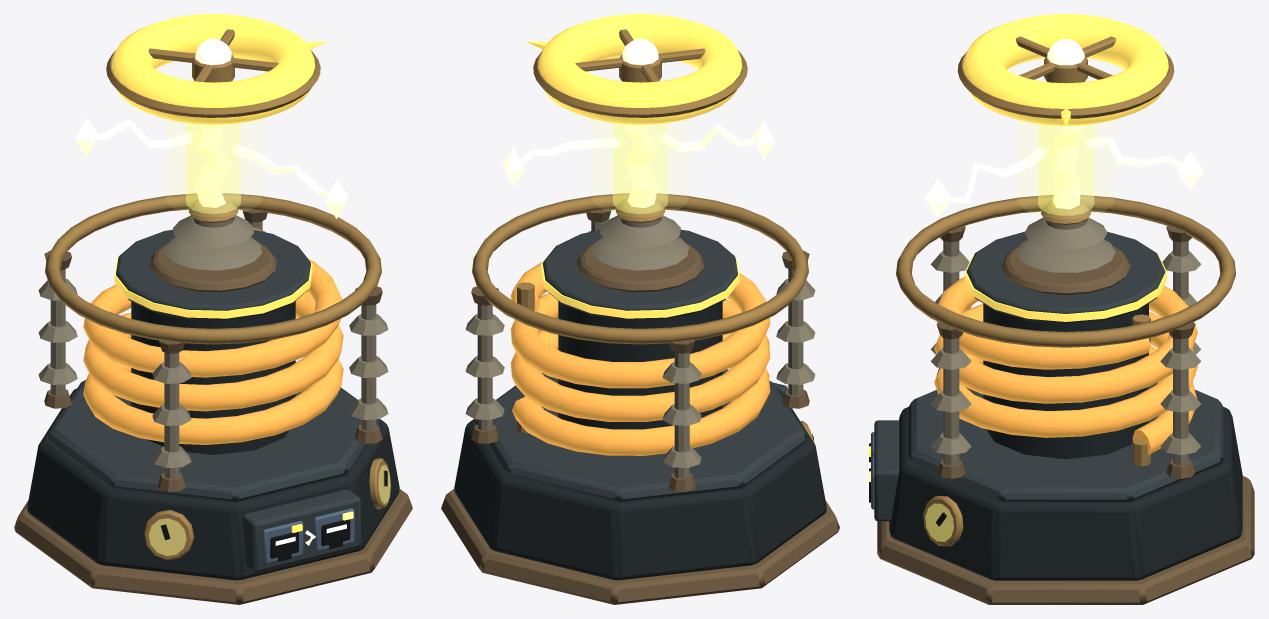
File: power.glb
The picture shows the model from 3 angles, left to right: view 1: azimuth 30°, elevation 25°; view 2: azimuth 150°, elevation 25°; view 3: azimuth 270°, elevation 25°; orthographic projection.
Parts seen in each view (by area): view 1: body_metal_graphite, body_metal_dark, body_copper_live, body_metal_brass, body_metal_brass_bright, terminal, body_porcelain, plasma_sheath, terminal_frame, sparks, body_glow_plasma, body_role_luminous (+4 smaller); view 2: body_metal_dark, body_copper_live, body_metal_graphite, body_metal_brass, terminal, body_metal_brass_bright, body_porcelain, plasma_sheath, terminal_frame, sparks, body_glow_plasma, body_role_luminous (+1 smaller); view 3: body_metal_dark, body_metal_graphite, body_copper_live, body_metal_brass, body_metal_brass_bright, terminal, body_porcelain, plasma_sheath, terminal_frame, sparks, body_glow_plasma, body_role_luminous (+2 smaller).
Boxes of the visible parts, <box> form: body_metal_graphite: <box>47,229,379,572</box>; body_metal_dark: <box>27,301,399,580</box>; body_copper_live: <box>83,259,343,444</box>; body_metal_brass: <box>14,208,412,604</box>; body_metal_brass_bright: <box>45,193,390,560</box>; terminal: <box>111,14,327,124</box>; body_porcelain: <box>38,215,388,478</box>; plasma_sheath: <box>186,123,240,213</box>; terminal_frame: <box>106,29,320,117</box>; sparks: <box>75,117,348,218</box>; body_glow_plasma: <box>194,124,346,545</box>; body_role_luminous: <box>114,249,312,318</box>; body_metal_dark: <box>454,301,826,580</box>; body_copper_live: <box>510,261,770,455</box>; body_metal_graphite: <box>474,229,806,501</box>; body_metal_brass: <box>441,208,839,604</box>; terminal: <box>526,14,742,124</box>; body_metal_brass_bright: <box>472,193,814,443</box>; body_porcelain: <box>465,215,815,478</box>; plasma_sheath: <box>613,123,667,213</box>; terminal_frame: <box>533,29,747,117</box>; sparks: <box>502,120,775,186</box>; body_glow_plasma: <box>624,124,658,208</box>; body_role_luminous: <box>541,249,739,318</box>; body_metal_dark: <box>889,303,1242,580</box>; body_metal_graphite: <box>874,231,1223,521</box>; body_copper_live: <box>934,277,1197,454</box>; body_metal_brass: <box>877,225,1254,604</box>; body_metal_brass_bright: <box>896,195,1235,546</box>; terminal: <box>963,14,1168,126</box>; body_porcelain: <box>931,217,1201,465</box>; plasma_sheath: <box>1038,124,1093,215</box>; terminal_frame: <box>957,36,1174,118</box>; sparks: <box>924,137,1204,218</box>; body_glow_plasma: <box>868,125,1083,487</box>; body_role_luminous: <box>965,255,1166,321</box>.
Bounding box in the file's own units: 1.14 × 1.62 × 1.17.
